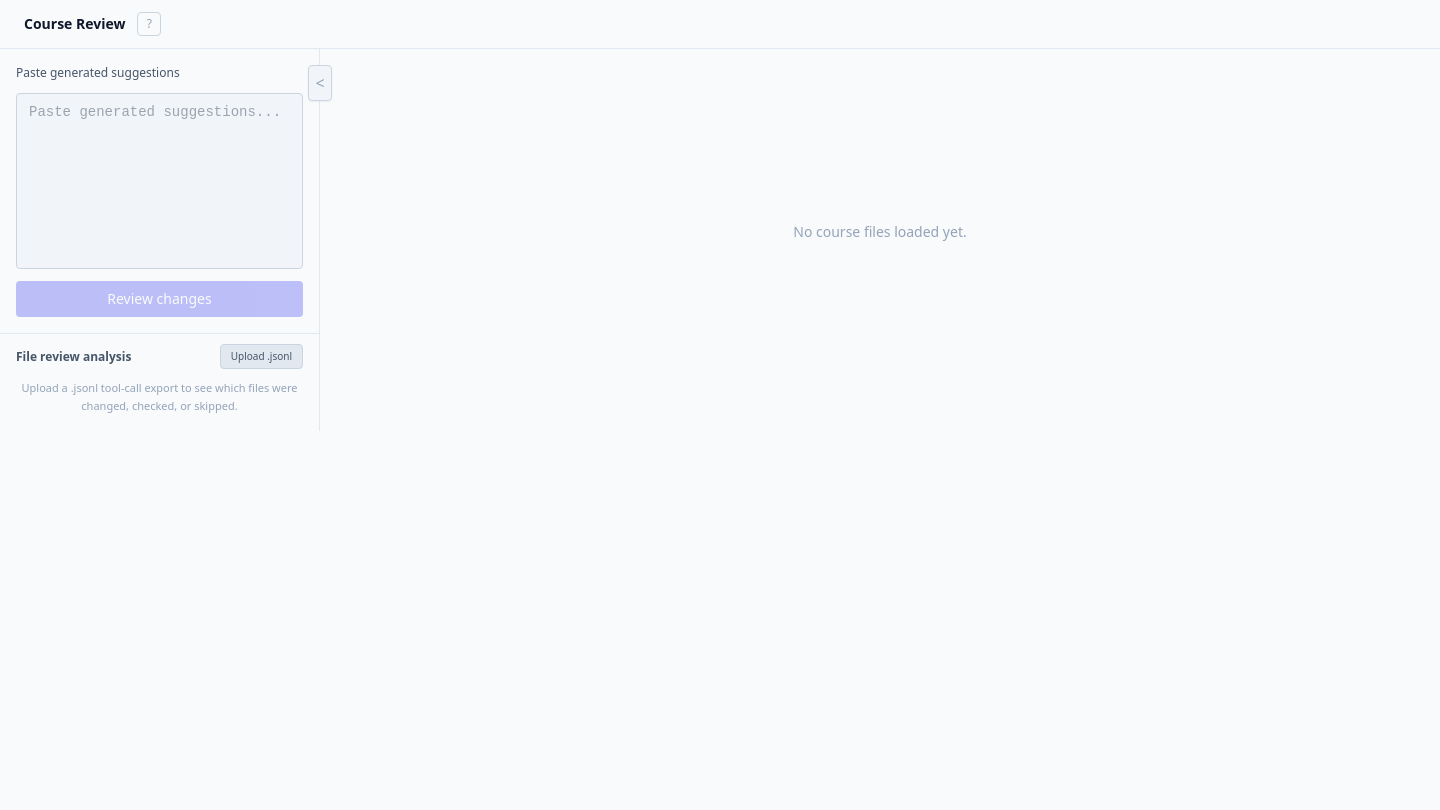
Test: Course Review tutorial › opens a compact tutorial from the help button
What coordinates should you click on to do the following:
click the button named "course review help"
I would click on:
 (150, 24)
Its box is [138,12,162,36].
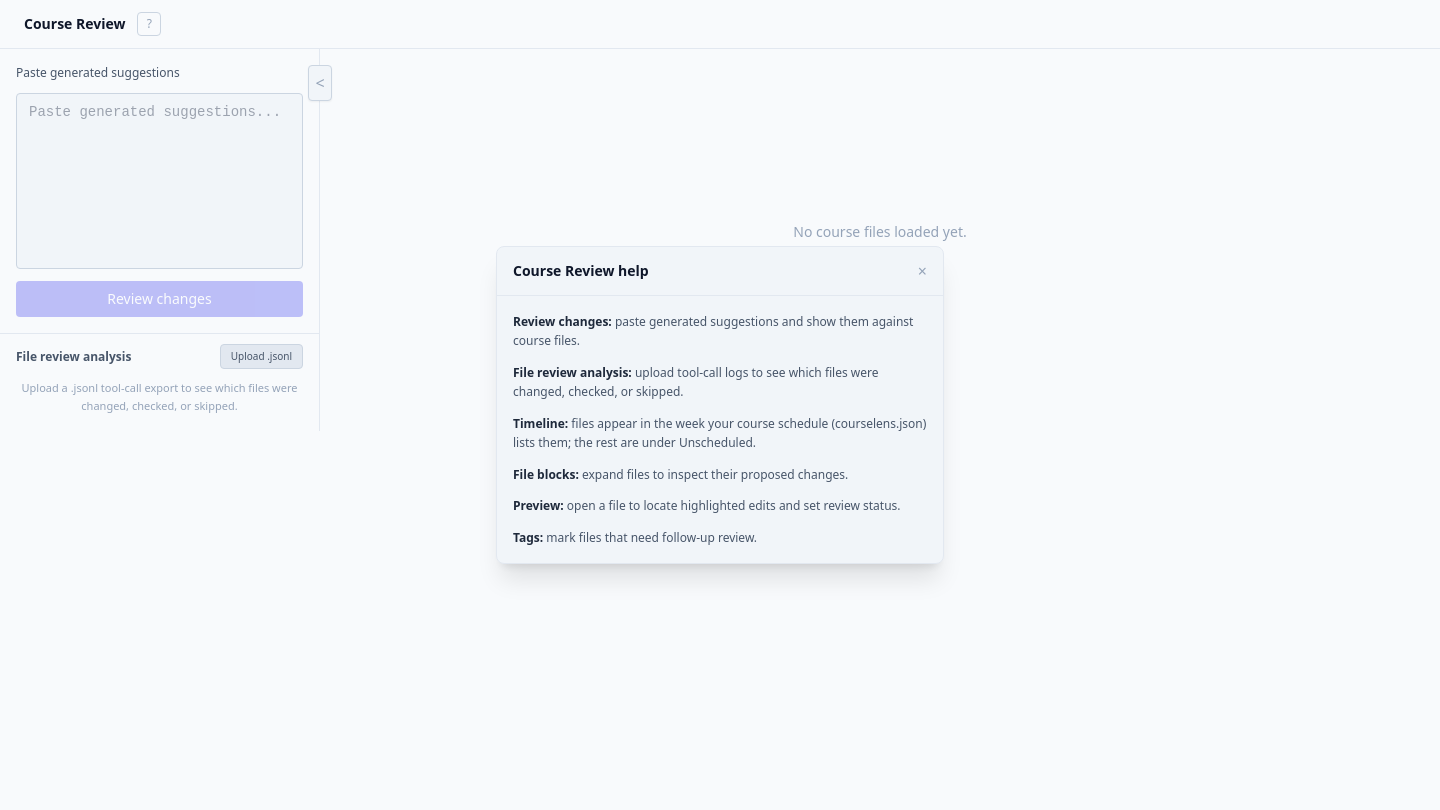
Now the text "Review changes:" is shown, box [513,313,612,330]
Now the text "File review analysis:" is shown, box [513,364,632,381]
Now the text "Timeline:" is shown, box [513,415,568,432]
